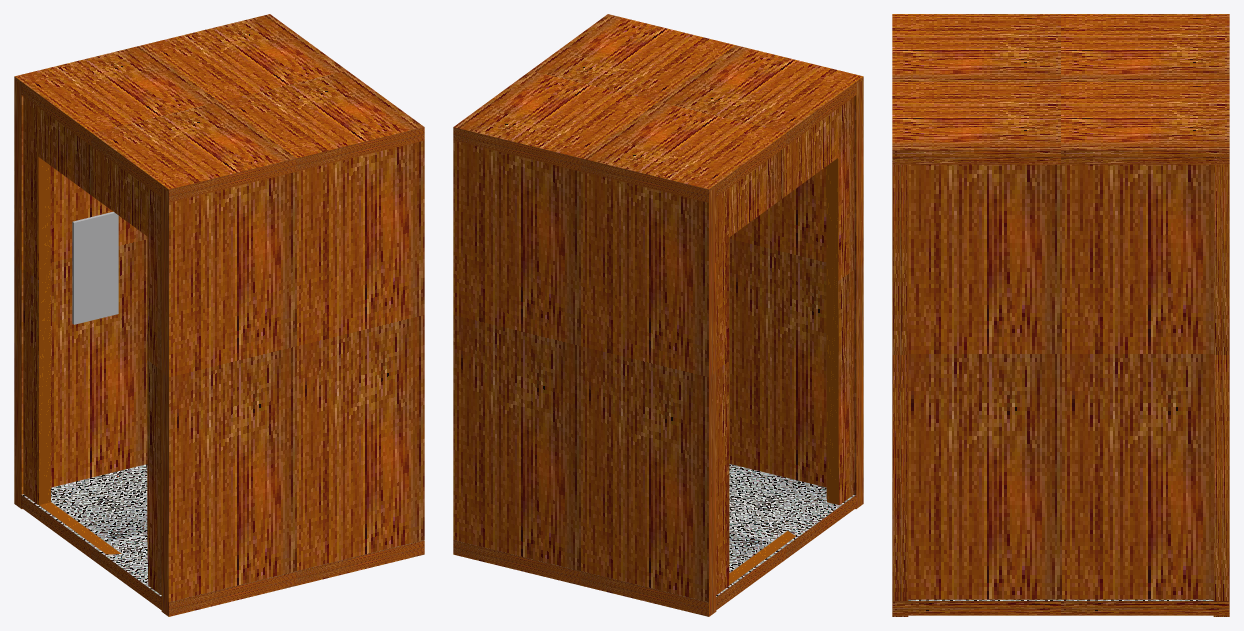
Rendered from lift.glb.
3 renders of one model, left to right at view 1: azimuth 30°, elevation 25°; view 2: azimuth 150°, elevation 25°; view 3: azimuth 270°, elevation 25°, orthographic. The views are drawn at different scales.
Visible parts, largest first — view 1: Куб.005, Куб.010; view 2: Куб.005; view 3: Куб.005.
Part boxes in pixels (box(x1,y1,x2,y2)): Куб.005: box(14, 14, 424, 616); Куб.010: box(72, 211, 118, 324); Куб.005: box(453, 14, 863, 616); Куб.005: box(892, 14, 1229, 616).
Size of the model in its own units: 11.49 by 18.36 by 12.04.
3 materials, 2 textured.
